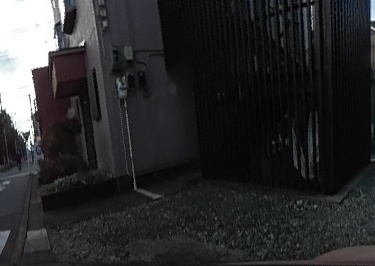person: (14, 150, 22, 168)
